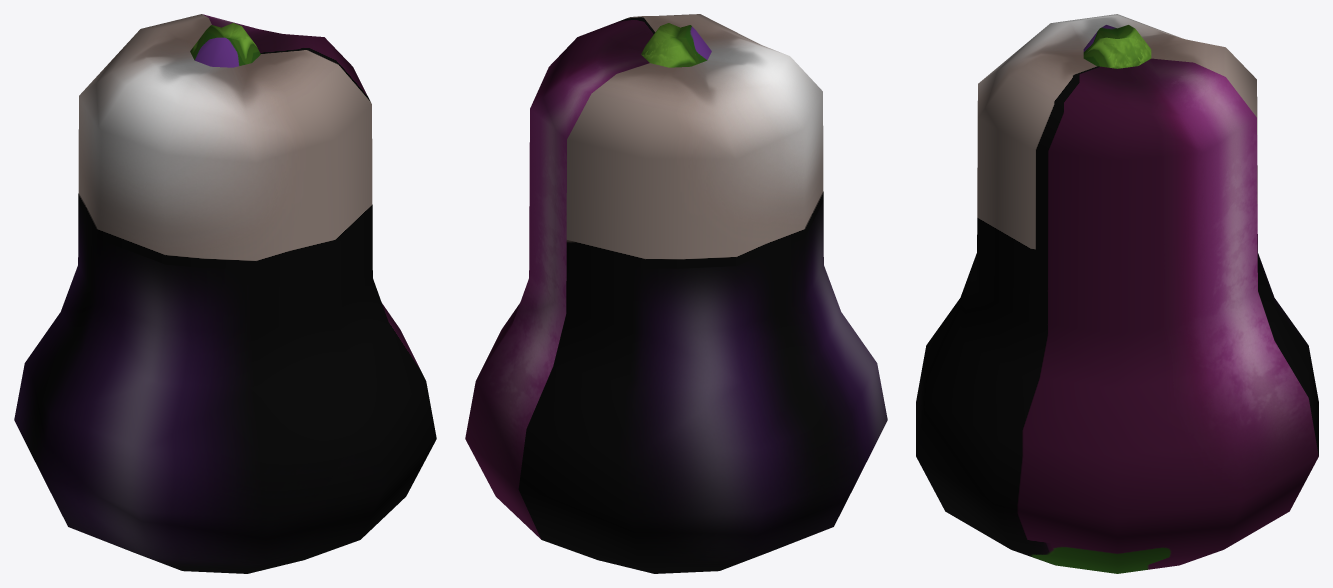
File: Butternut_Squash.fbx
3 views of the same model, side by side, from view 1: azimuth 30°, elevation 25°; view 2: azimuth 150°, elevation 25°; view 3: azimuth 270°, elevation 25° (orthographic).
Visible parts, largest first — view 1: Butternut_Squash; view 2: Butternut_Squash; view 3: Butternut_Squash.
Part boxes in pixels (<box>): Butternut_Squash: <box>14,14,436,573</box>; Butternut_Squash: <box>465,14,887,573</box>; Butternut_Squash: <box>916,14,1318,573</box>.
Bounding box in the file's own units: 49.38 × 64.94 × 46.96.
